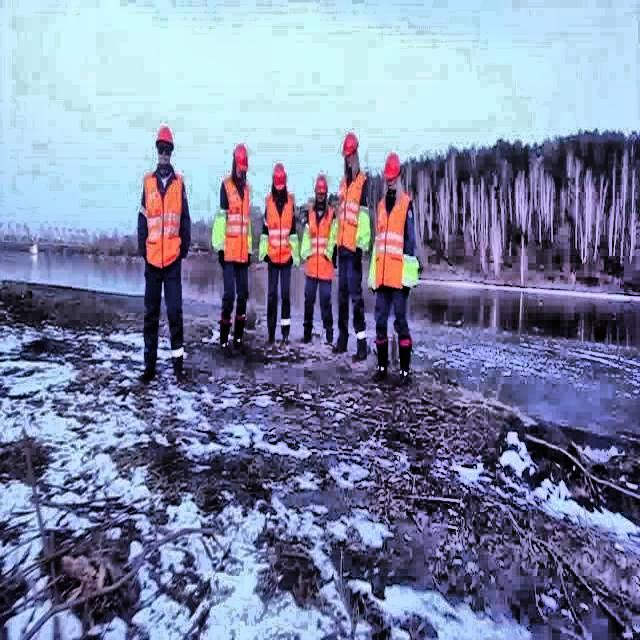safety_jacket: (373, 190, 411, 290), (334, 173, 370, 255), (263, 192, 294, 266), (306, 203, 334, 277), (224, 182, 248, 264), (356, 193, 369, 252), (212, 207, 228, 252), (402, 251, 416, 292), (326, 217, 338, 263), (367, 247, 377, 293), (300, 227, 310, 266), (290, 230, 300, 260), (260, 232, 268, 264)
